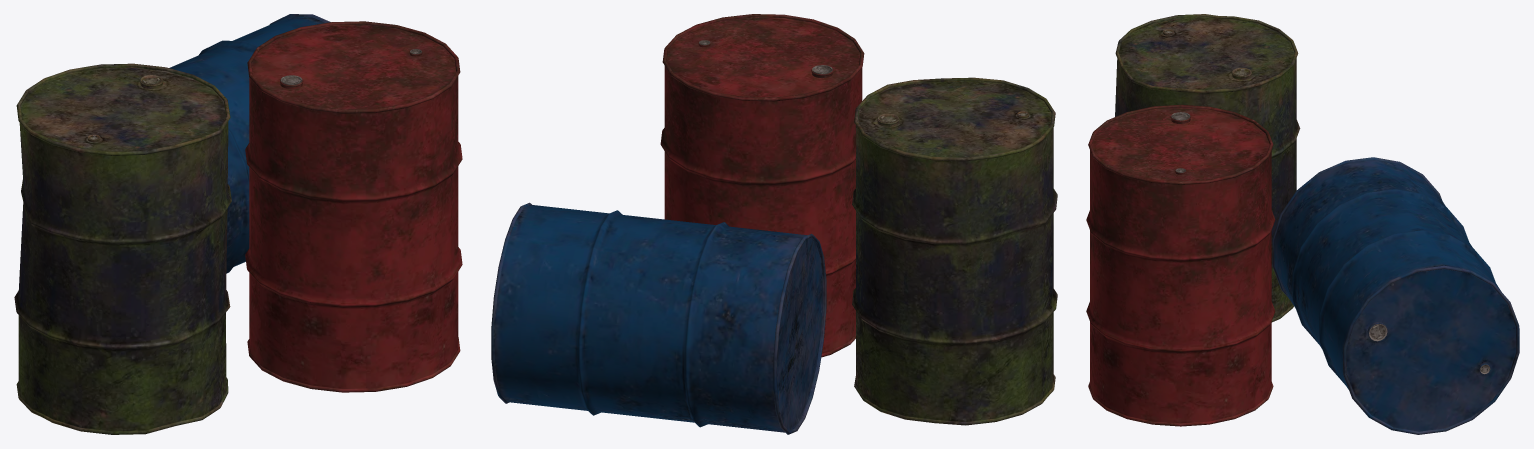
The model's file is drums.glb.
3 views of the same model, side by side, from view 1: azimuth 30°, elevation 25°; view 2: azimuth 150°, elevation 25°; view 3: azimuth 270°, elevation 25° (orthographic). The views are drawn at different scales.
Visible parts, largest first — view 1: Red_Drum_low, Damaged_Drum_low, Blue_Drum_low; view 2: Damaged_Drum_low, Blue_Drum_low, Red_Drum_low; view 3: Red_Drum_low, Blue_Drum_low, Damaged_Drum_low.
Boxes of the visible parts, box(x1,y1,x2,y2) form: Red_Drum_low: box(245, 21, 462, 392); Damaged_Drum_low: box(14, 63, 231, 434); Blue_Drum_low: box(169, 14, 330, 273); Damaged_Drum_low: box(852, 77, 1057, 425); Blue_Drum_low: box(491, 202, 826, 434); Red_Drum_low: box(660, 14, 864, 357); Red_Drum_low: box(1086, 104, 1275, 426); Blue_Drum_low: box(1272, 157, 1519, 434); Damaged_Drum_low: box(1115, 14, 1300, 322).
Bounding box in the file's own units: 1.81 × 1.08 × 1.73.
Materials: 3 (3 with a texture image).
